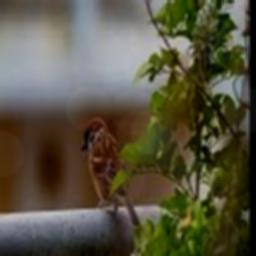Sparrow: (82, 116, 140, 225)
